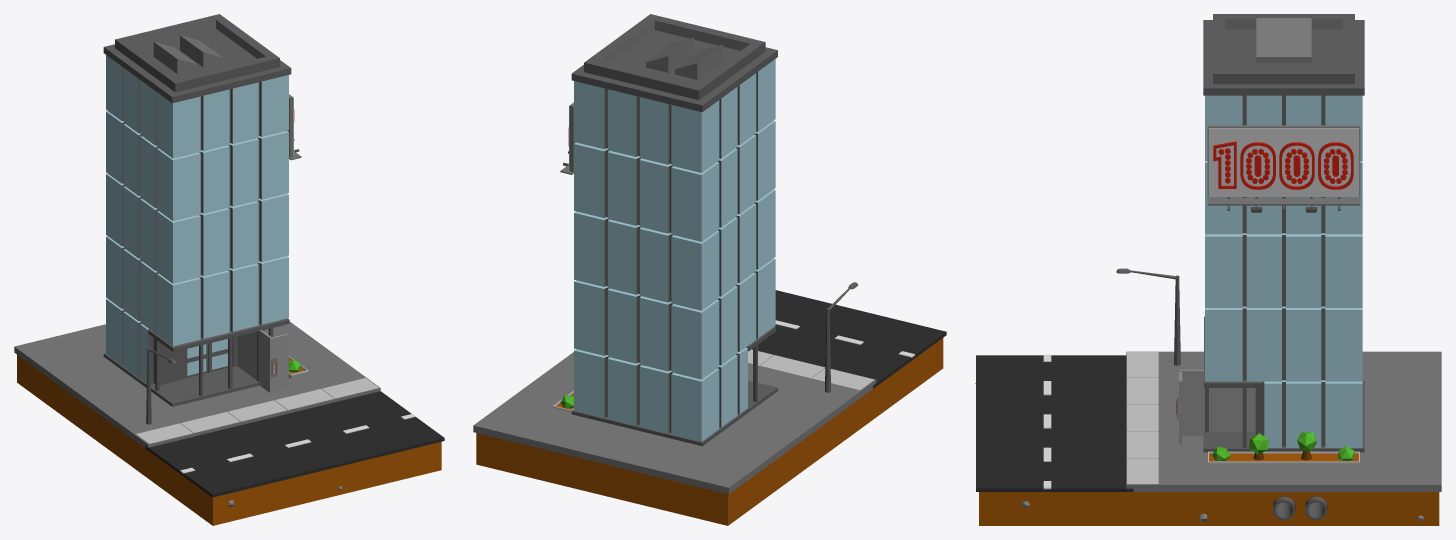
File: cities_giris_o.fbx
3 views of the same model, side by side, from view 1: azimuth 30°, elevation 25°; view 2: azimuth 150°, elevation 25°; view 3: azimuth 270°, elevation 25° (orthographic). The views are drawn at different scales.
Visible parts, largest first — view 1: Cube_2_2, ZEMIN, Cube_17_3, Cube_2_4, Cube_4_3, Cube_3_3, Cube_5_3, Cube_13_2, Cube_6_3, Cube_1_5, Cube_14_2, Cube_26 (+17 smaller); view 2: ZEMIN, Cube_17_3, Cube_2_4, Cube_3_3, Cube_4_3, Cube_5_3, Cube_1_5, Cube_2_2, Cube_13_2, Cube_6_3, Cube_1_4, Cube_14_2 (+10 smaller); view 3: ZEMIN, Cube_2_2, Cube_17_3, Cube_2_4, Cube_3_3, Cube_2_9, Cube_1_5, Cube_13_2, Cube_5_3, Cube_4_3, Cube_6_3, Cube_26 (+18 smaller).
Part boxes in pixels (left/top/right/bottom): Cube_2_2: left=145, top=391, right=444, bottom=497; ZEMIN: left=14, top=321, right=380, bottom=447; Cube_17_3: left=17, top=355, right=441, bottom=525; Cube_2_4: left=106, top=236, right=288, bottom=346; Cube_4_3: left=106, top=111, right=288, bottom=220; Cube_3_3: left=106, top=173, right=288, bottom=283; Cube_5_3: left=106, top=55, right=288, bottom=158; Cube_13_2: left=103, top=28, right=291, bottom=103; Cube_6_3: left=115, top=14, right=279, bottom=383; Cube_1_5: left=106, top=298, right=258, bottom=395; Cube_14_2: left=103, top=353, right=291, bottom=406; Cube_26: left=237, top=330, right=272, bottom=392; ZEMIN: left=473, top=352, right=876, bottom=494; Cube_17_3: left=476, top=338, right=943, bottom=525; Cube_2_4: left=574, top=258, right=775, bottom=379; Cube_3_3: left=574, top=189, right=775, bottom=310; Cube_4_3: left=574, top=120, right=775, bottom=241; Cube_5_3: left=574, top=59, right=775, bottom=172; Cube_1_5: left=574, top=345, right=757, bottom=441; Cube_2_2: left=752, top=290, right=946, bottom=388; Cube_13_2: left=571, top=30, right=777, bottom=112; Cube_6_3: left=584, top=14, right=765, bottom=370; Cube_1_4: left=599, top=20, right=749, bottom=62; Cube_14_2: left=571, top=380, right=777, bottom=446; ZEMIN: left=1126, top=351, right=1441, bottom=491; Cube_2_2: left=976, top=355, right=1133, bottom=491; Cube_17_3: left=979, top=492, right=1439, bottom=525; Cube_2_4: left=1205, top=306, right=1362, bottom=381; Cube_3_3: left=1205, top=233, right=1362, bottom=307; Cube_2_9: left=1208, top=128, right=1359, bottom=196; Cube_1_5: left=1242, top=380, right=1362, bottom=447; Cube_13_2: left=1203, top=20, right=1364, bottom=95; Cube_5_3: left=1205, top=95, right=1362, bottom=160; Cube_4_3: left=1205, top=161, right=1362, bottom=234; Cube_6_3: left=1213, top=14, right=1354, bottom=435; Cube_26: left=1179, top=369, right=1255, bottom=435.
Bounding box in the file's own units: 405 × 593 × 592.
